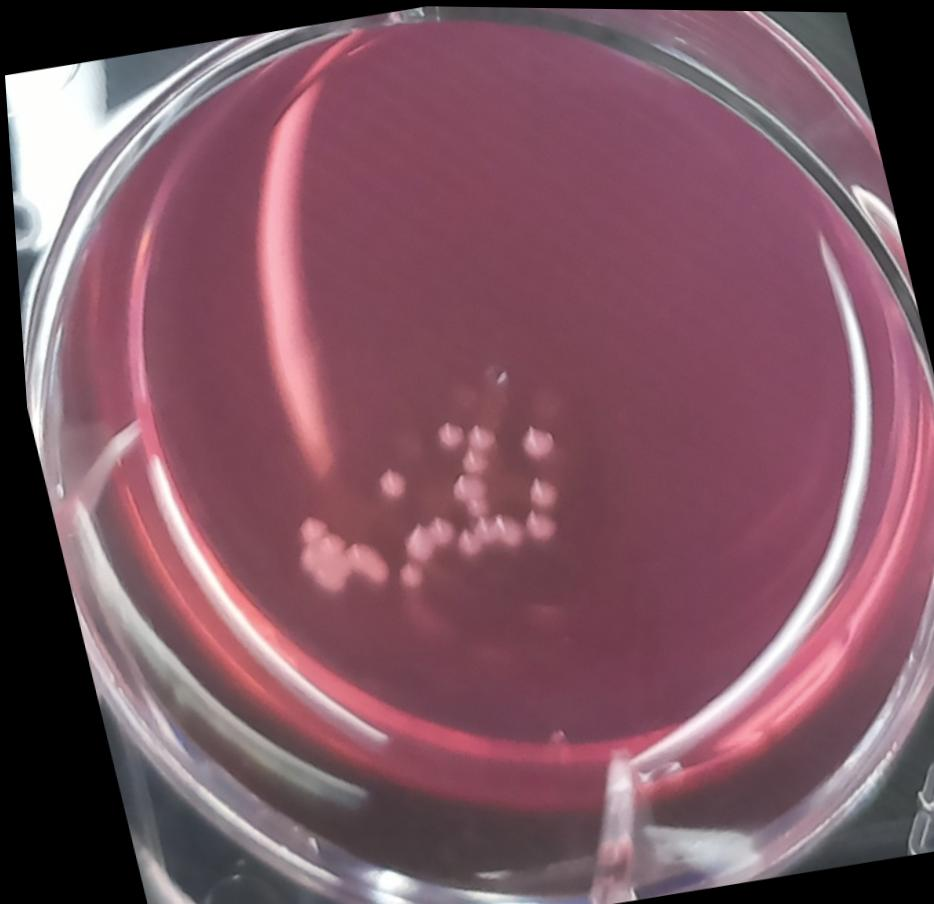bcereus: (270, 500, 392, 609), (381, 507, 454, 564), (504, 411, 560, 464), (363, 461, 414, 505), (378, 551, 422, 592), (420, 414, 465, 452)
